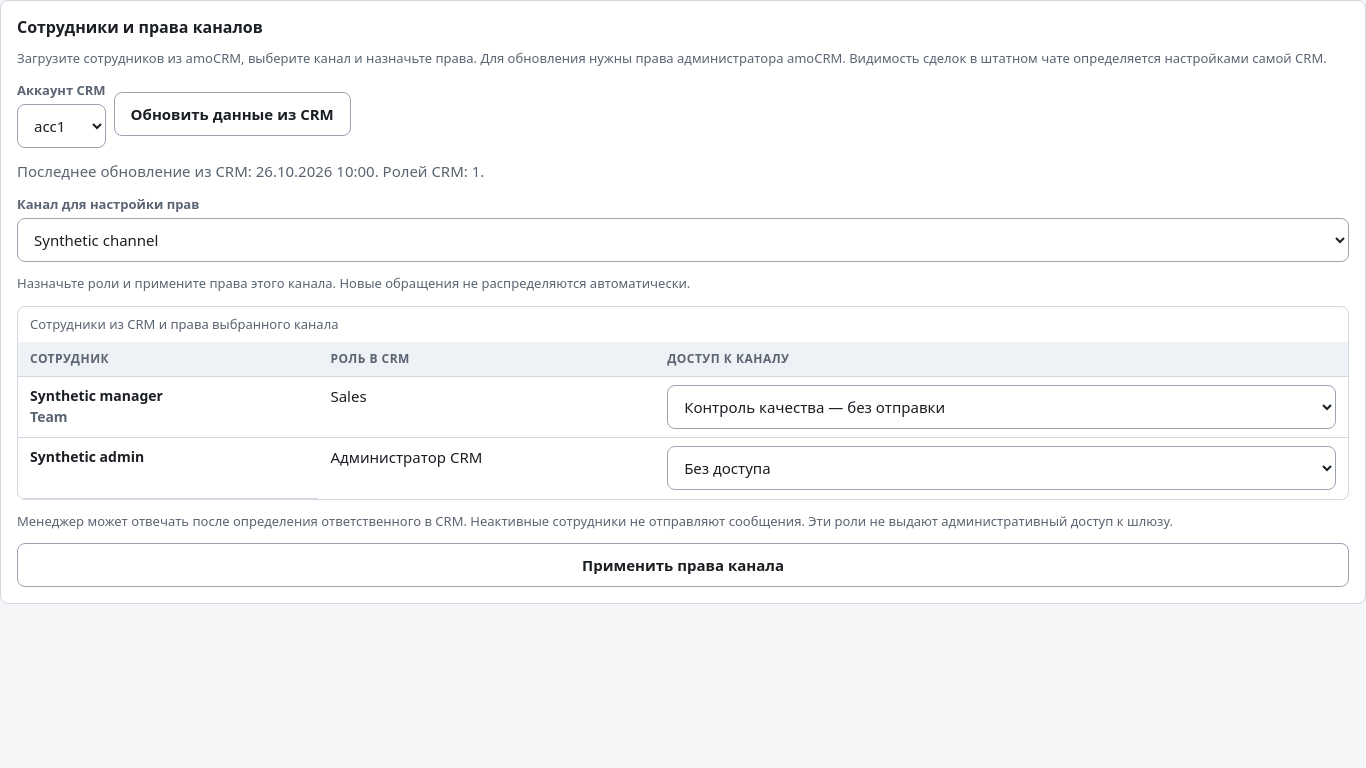
сотрудники из CRM и права канала › при ошибке обновления из CRM сохраняет прежний список и несохранённый выбор ролей
This screenshot has width=1366, height=768.
Select "Менеджер — ответы своим клиентам" in the dropdown named "Доступ к каналу: Synthetic manager (11)" at [1002, 407], box [667,385,1336,429]
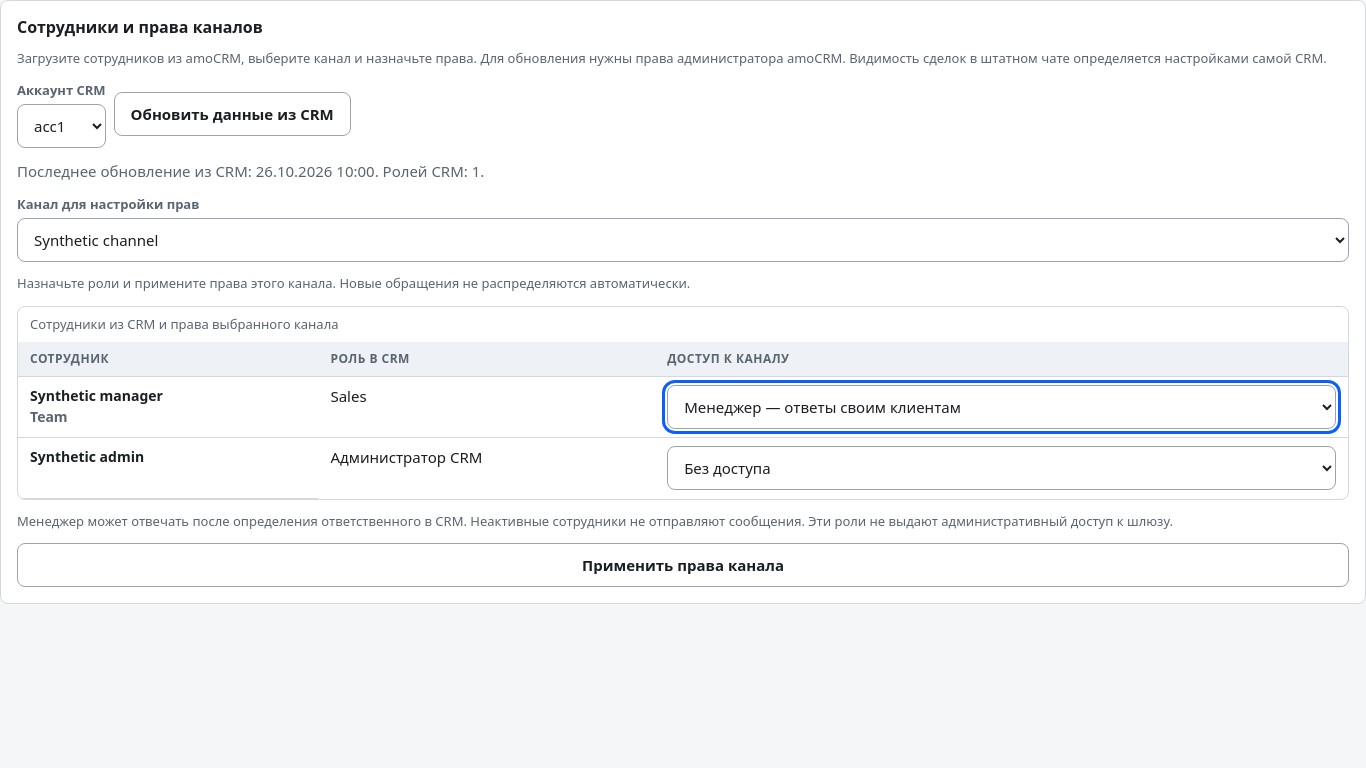
Click the button "Обновить данные из CRM" at [232, 114], box [114,92,351,136]
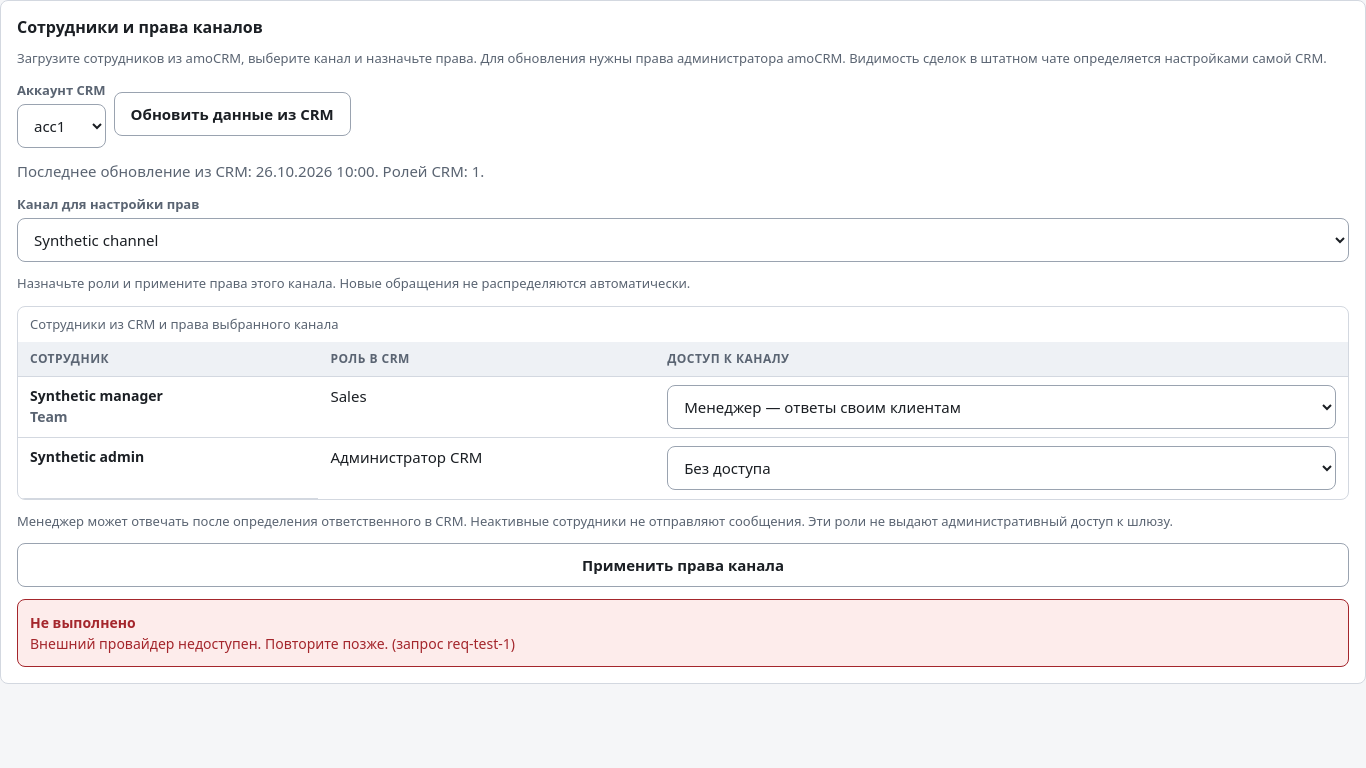
Expected: the column heading "Synthetic manager" is shown, [30,386,163,405]
Now the text "Не выполнено" is shown, box [30,613,136,632]
